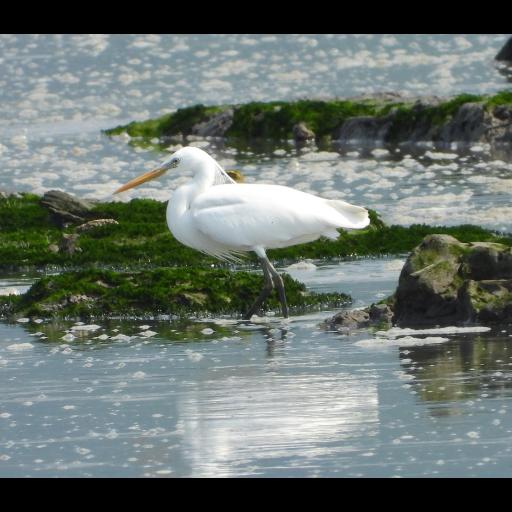chinese_egret: (111, 146, 371, 328)
